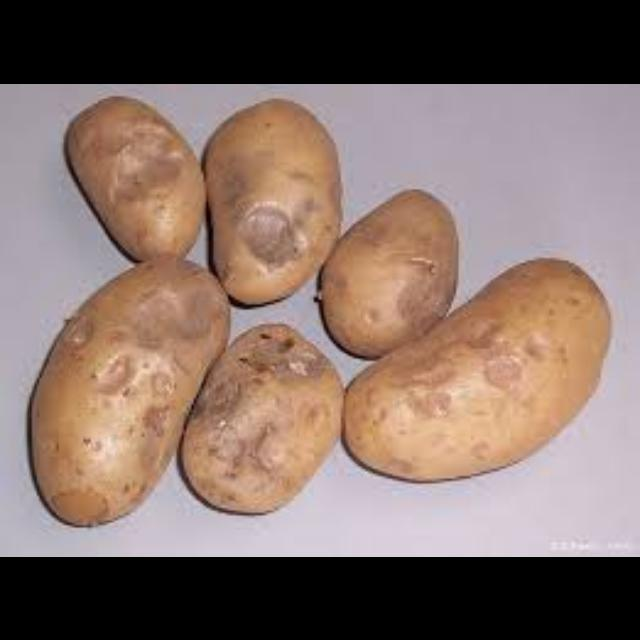Damaged potato: (338, 245, 614, 482), (28, 254, 234, 534), (184, 316, 350, 516), (206, 94, 348, 306), (60, 90, 210, 252)
